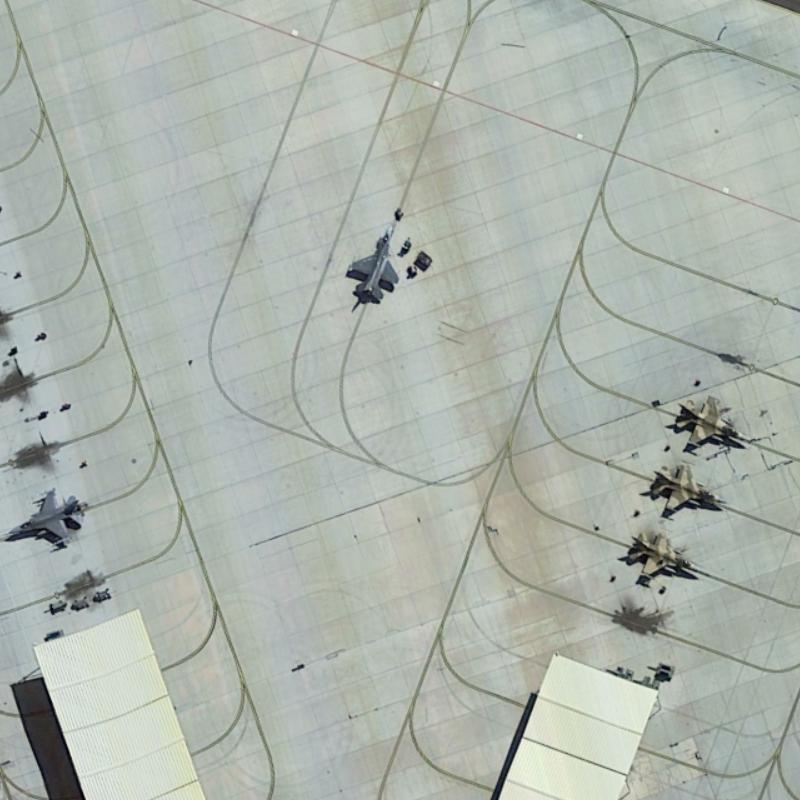A5: (666, 383, 756, 456), (1, 482, 89, 550), (342, 215, 406, 305), (616, 524, 709, 583), (645, 457, 728, 518)
